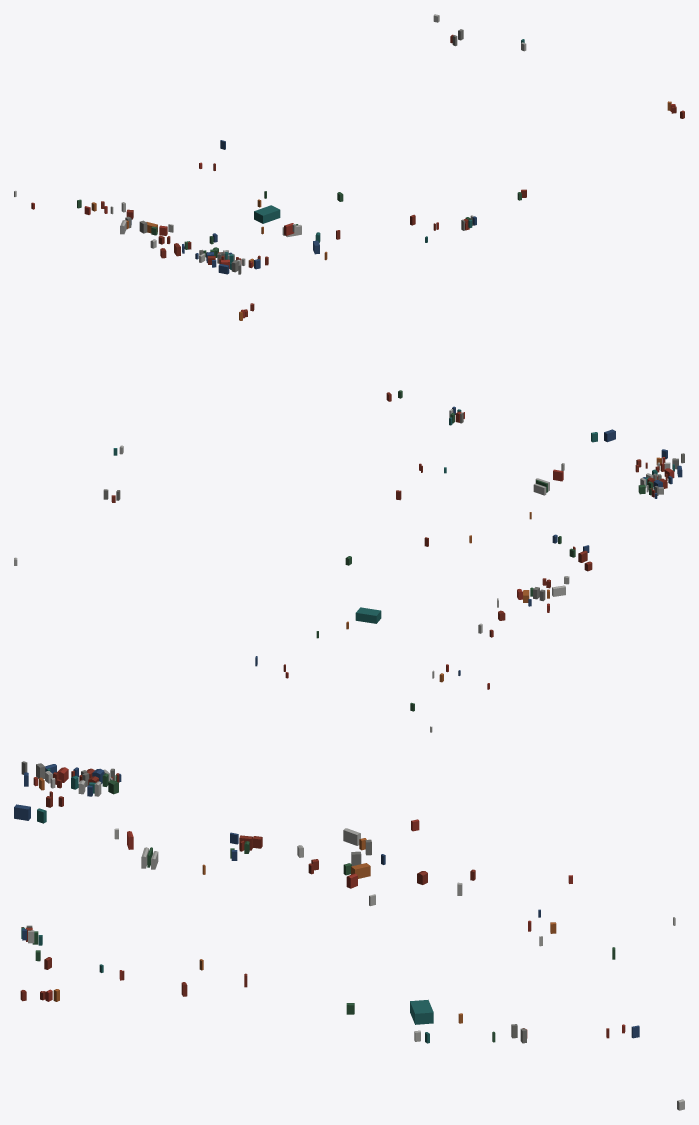
Rendered from near-15-27362-14863.b6fb34ca.glb.
3 renders of one model, top to bottom at view 1: azimuth 30°, elevation 25°; view 2: azimuth 150°, elevation 25°; view 3: azimuth 270°, elevation 25°, orthographic. The views are drawn at different scales.
Bounding box in the file's own units: 1185 × 408 × 1125.
